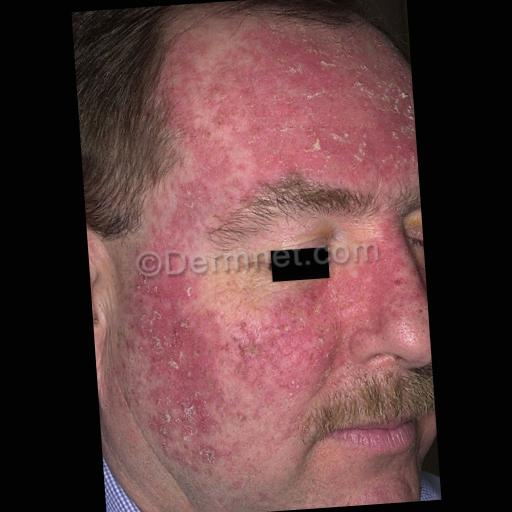Skin_Lesion: (234, 36, 404, 180), (126, 268, 215, 350), (153, 354, 219, 448), (274, 306, 343, 389), (342, 256, 418, 327), (174, 81, 236, 166), (102, 464, 150, 512), (164, 178, 197, 236), (228, 316, 260, 370), (116, 339, 138, 387), (90, 292, 102, 343)
